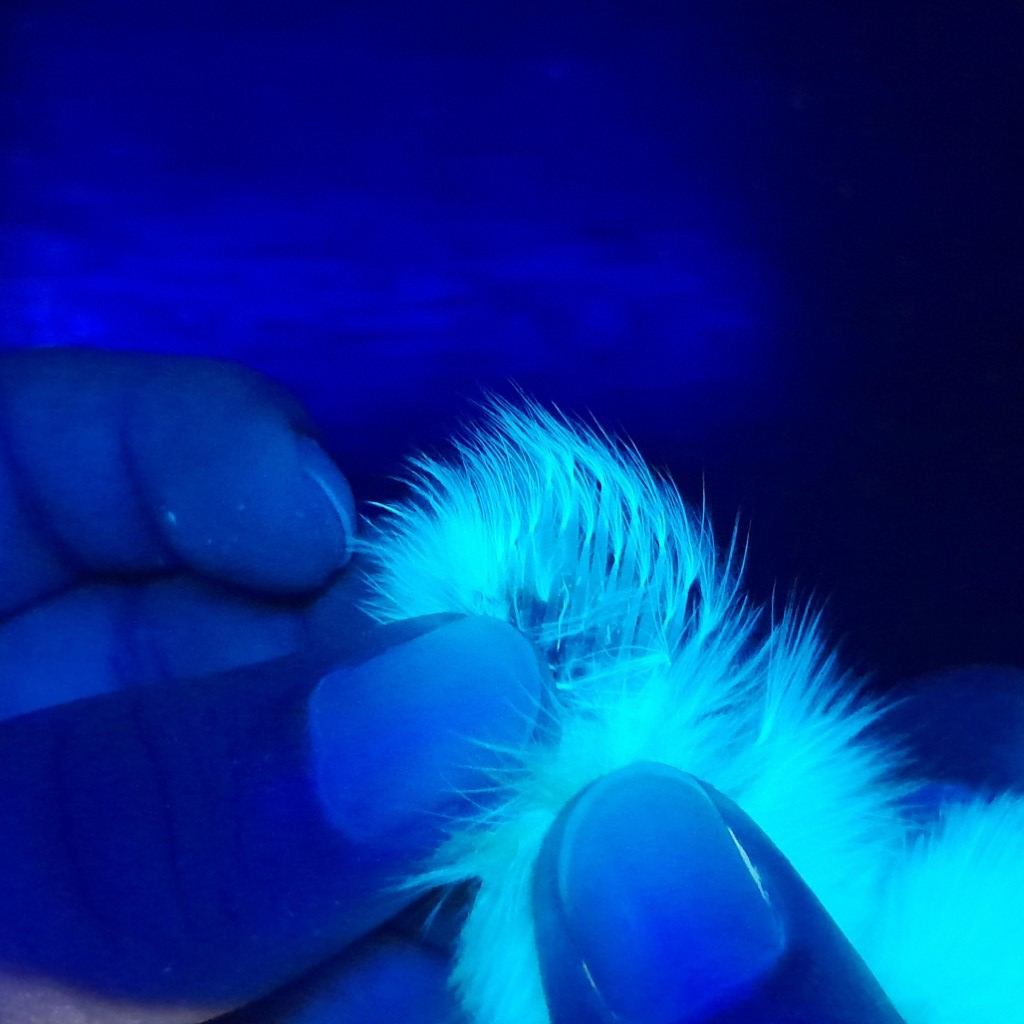female: (515, 466, 707, 718)
